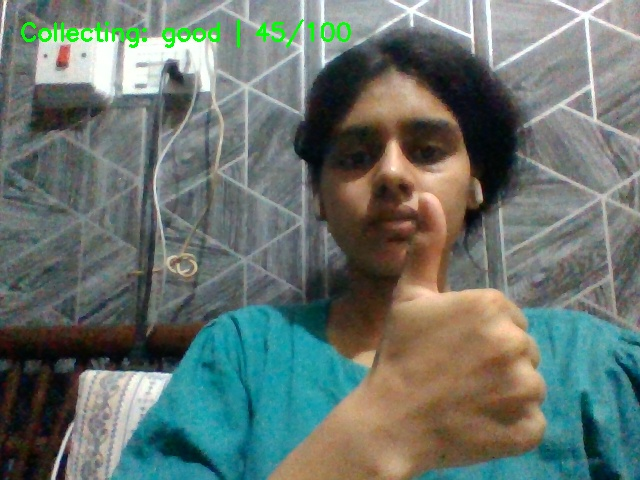good: (377, 187, 562, 468)
